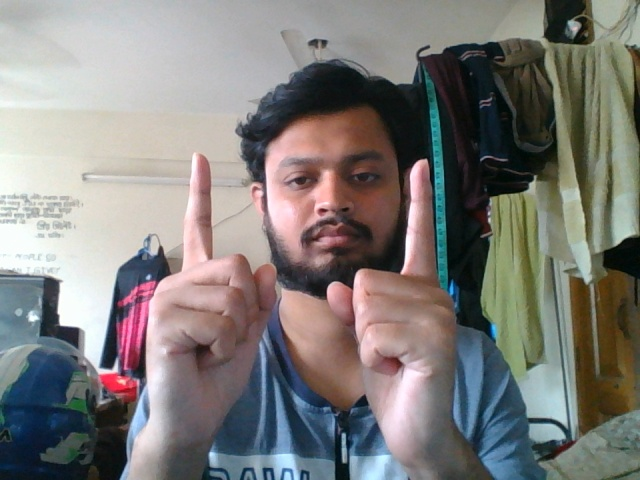ishara: (134, 150, 488, 478)
